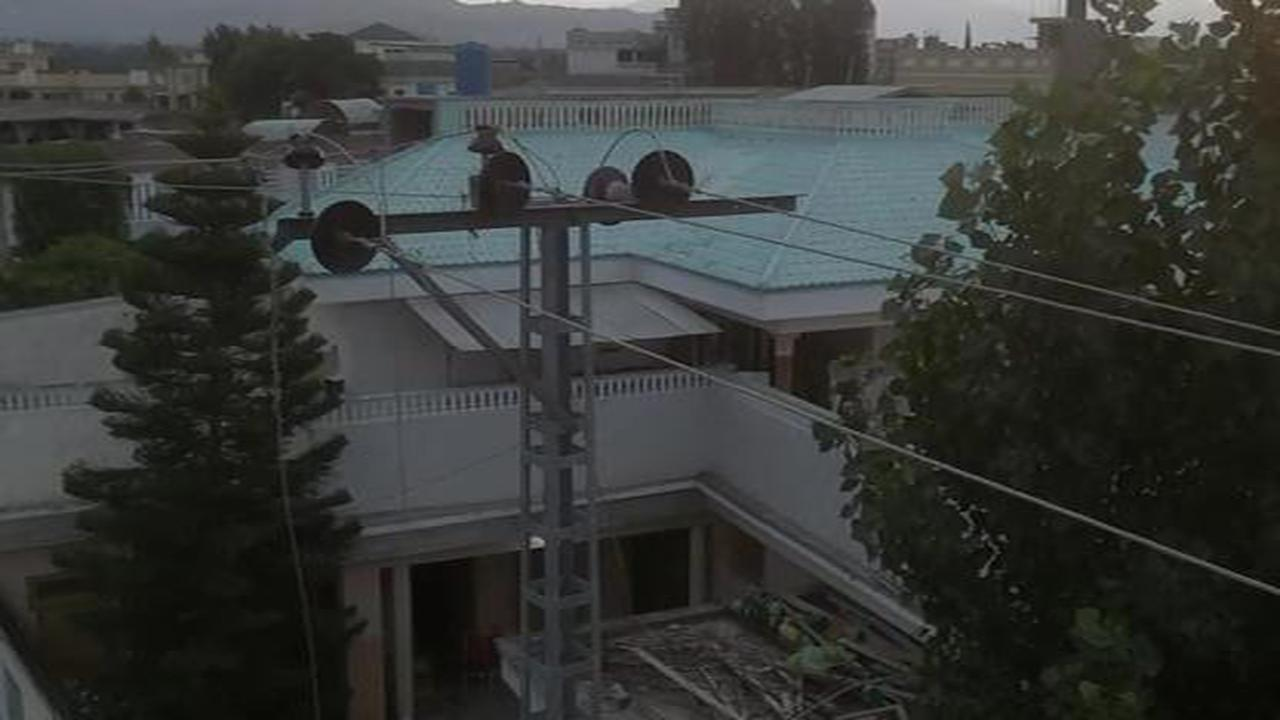insulator_disc: (308, 195, 389, 274), (630, 145, 702, 219), (475, 150, 537, 223), (576, 160, 638, 230)
insulator_pin: (280, 127, 333, 173), (463, 121, 506, 158)
